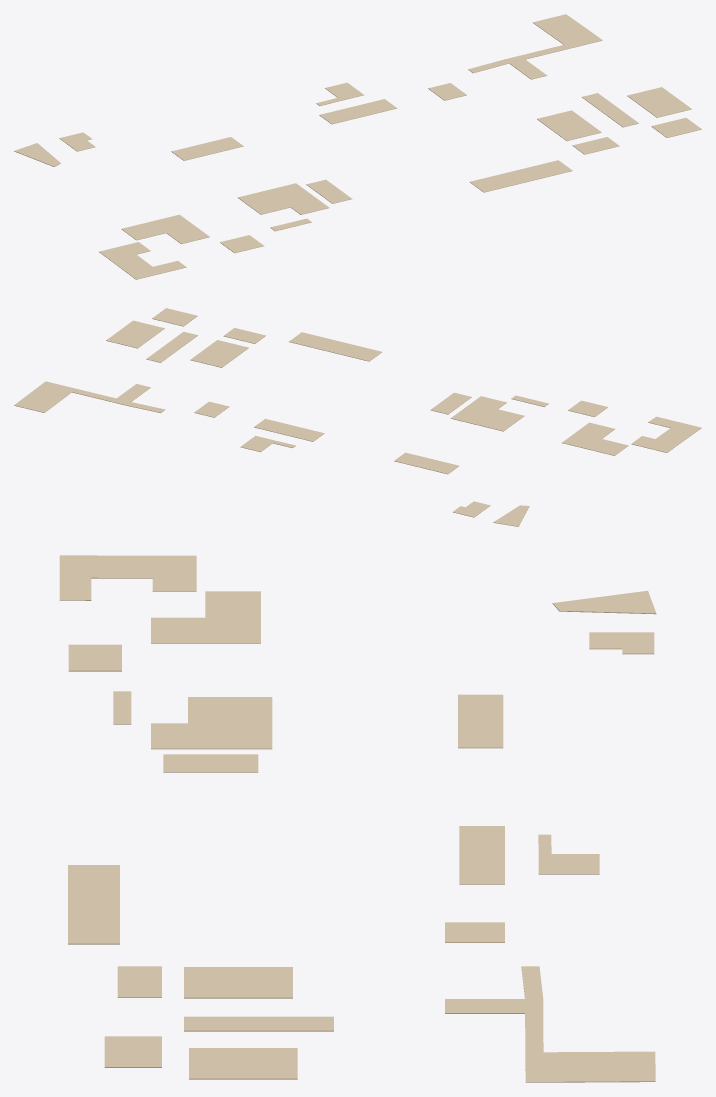
The model's file is parking.fbx.
3 views of the same model, one above another, from view 1: azimuth 30°, elevation 25°; view 2: azimuth 150°, elevation 25°; view 3: azimuth 270°, elevation 25° (orthographic). The views are drawn at different scales.
Visible parts, largest first — view 1: Parking; view 2: Parking; view 3: Parking.
Boxes of the visible parts, <box> form: Parking: <box>14,14,701,279</box>; Parking: <box>14,308,701,526</box>; Parking: <box>59,555,656,1082</box>.
Size of the model in its own units: 91568 by 64.01 by 43856.
